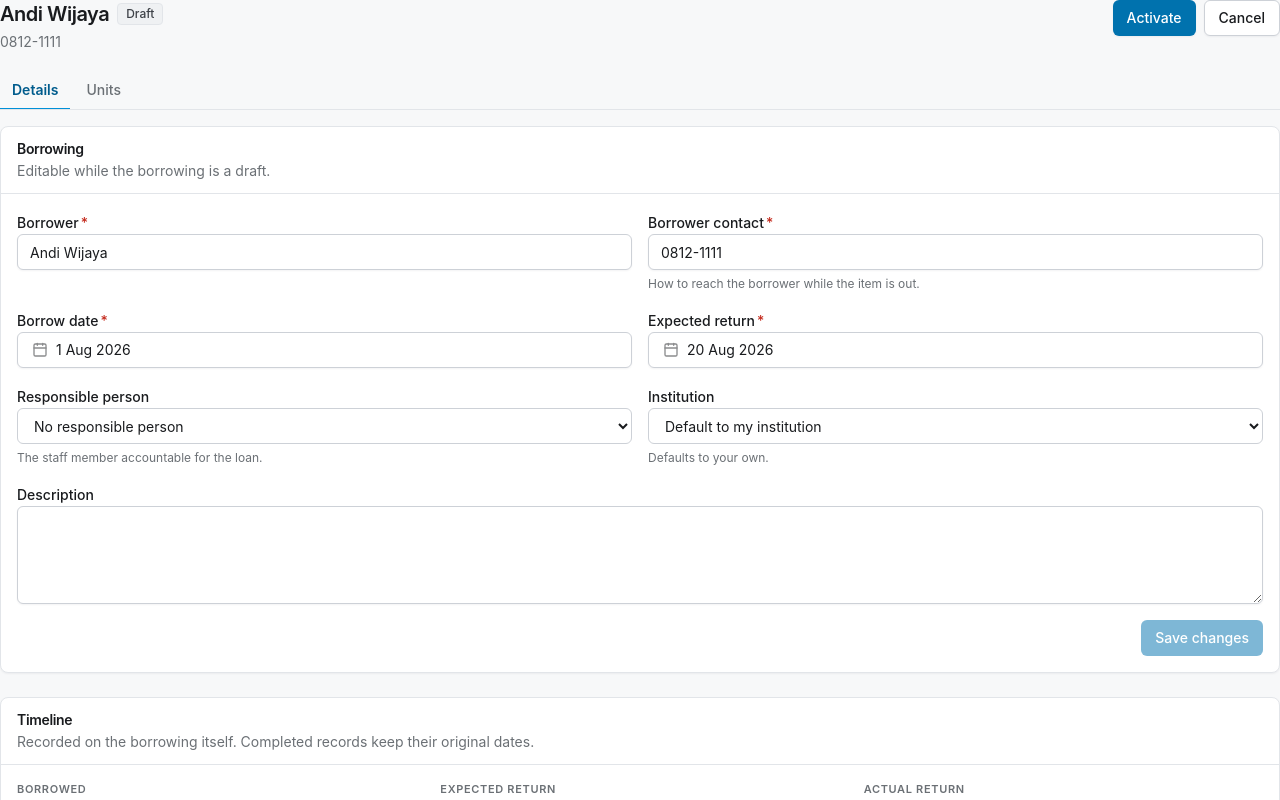
Test: BorrowingDetailPage › surfaces the state-machine CONFLICT when a unit cannot be borrowed (DEC-013)
This screenshot has width=1280, height=800.
Expected: the heading "Andi Wijaya" is shown, left=0, top=0, right=109, bottom=28
Click the button "Activate" at (1154, 18), box left=1113, top=0, right=1196, bottom=36
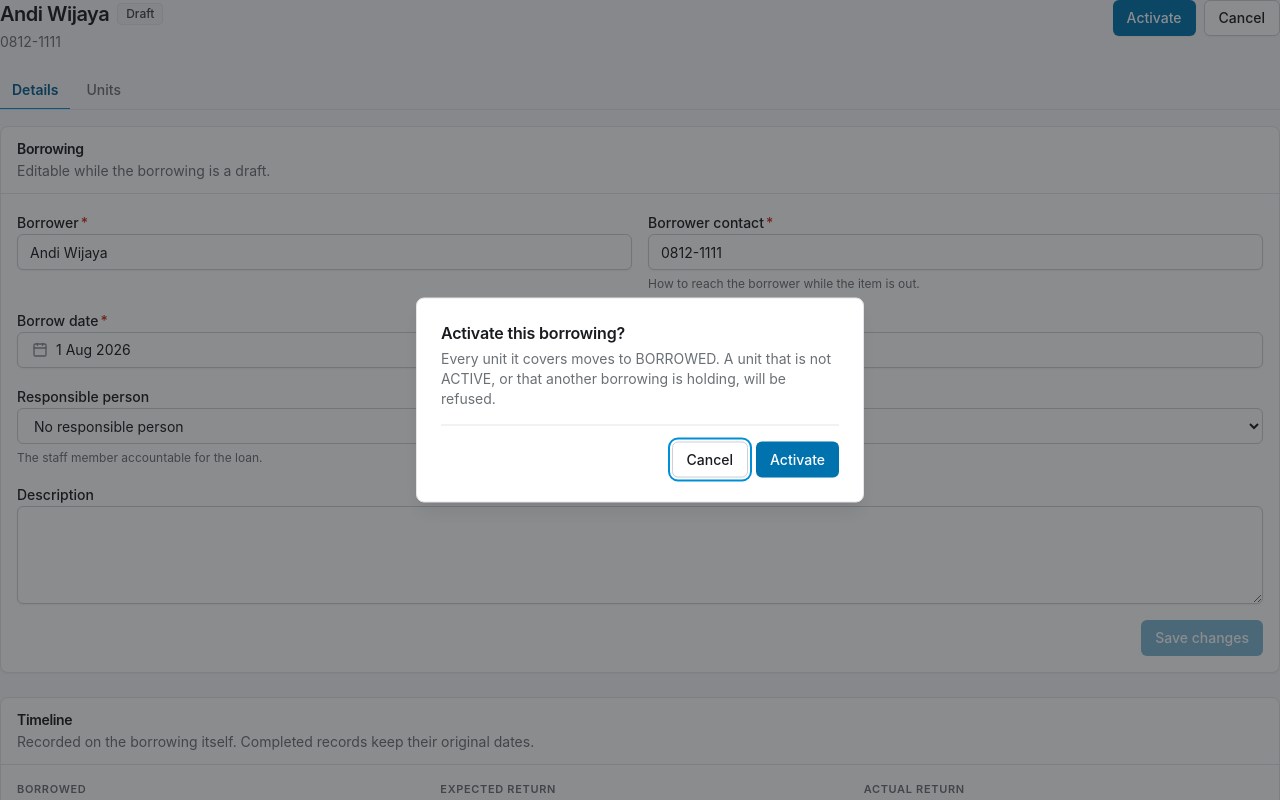
Click the button "Activate" at (798, 460), box left=756, top=442, right=839, bottom=478
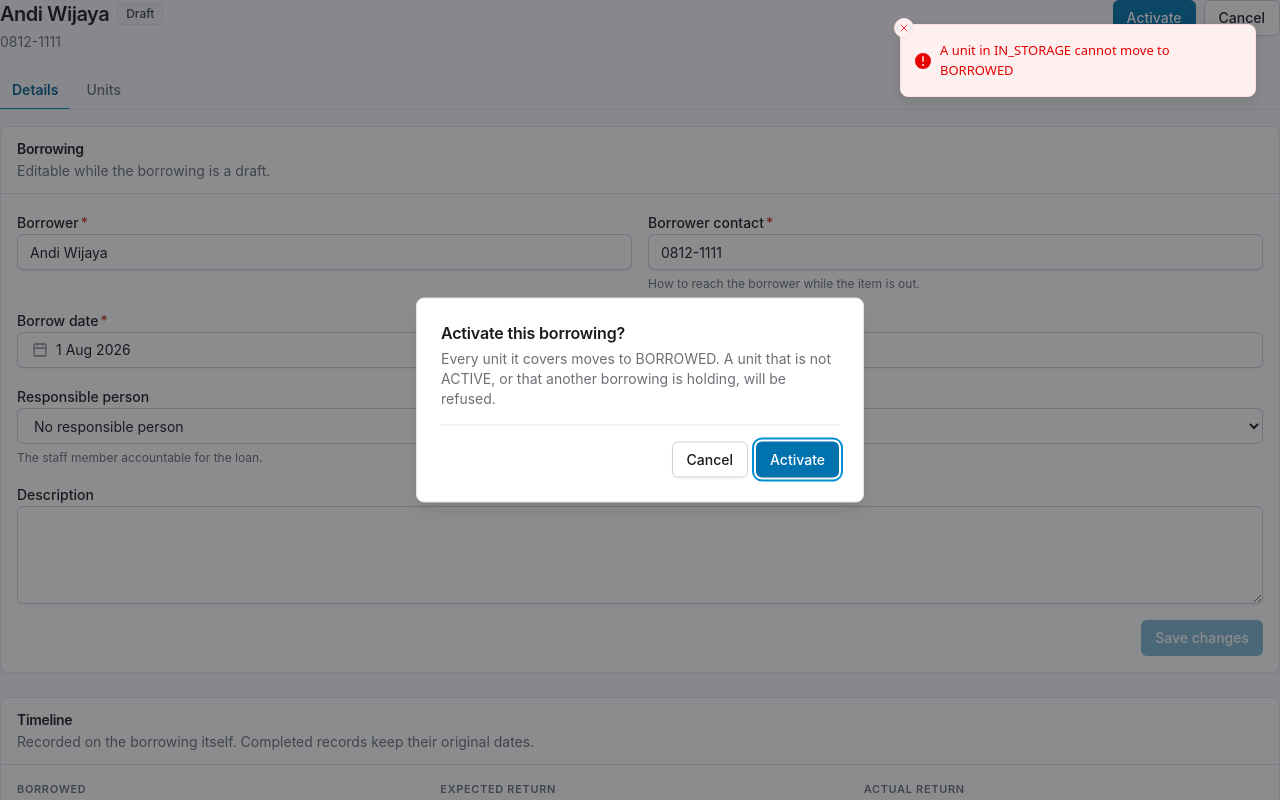
Now the text "A unit in IN_STORAGE cannot move to BORROWED" is shown, box left=940, top=41, right=1170, bottom=78
